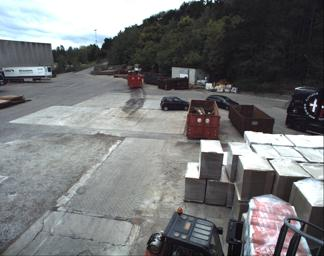rockwool_batts: (243, 197, 313, 255)
